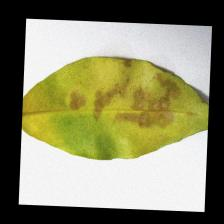canker: (60, 54, 186, 132)
